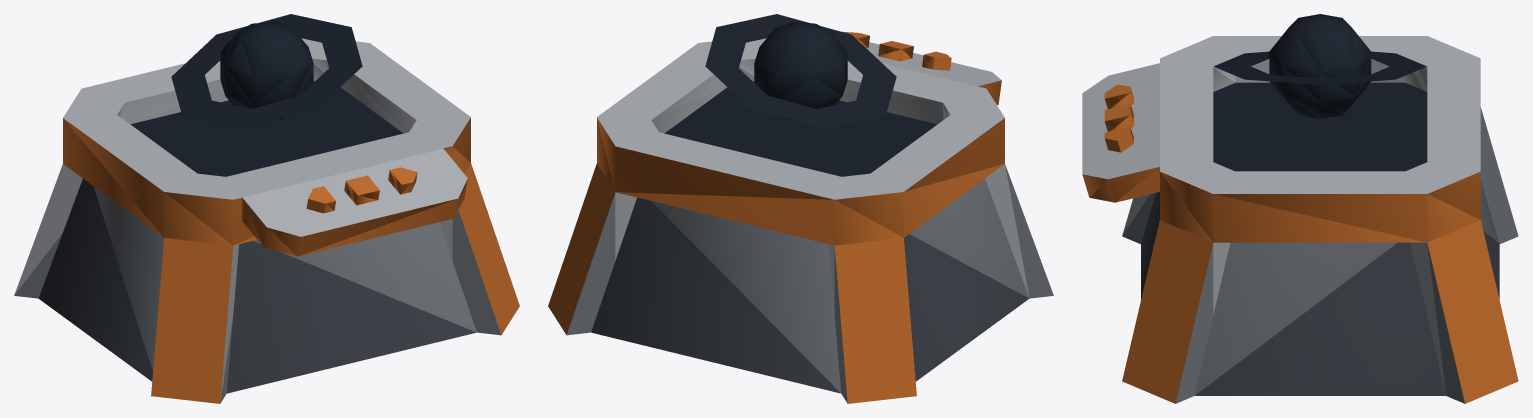
File: Kit_table-display-small.fbx
3 renders of one model, left to right at view 1: azimuth 30°, elevation 25°; view 2: azimuth 150°, elevation 25°; view 3: azimuth 270°, elevation 25°, orthographic. The views are drawn at different scales.
Parts seen in each view (by area): view 1: Kit_table-display-small; view 2: Kit_table-display-small; view 3: Kit_table-display-small.
Part boxes in pixels (box(x1,y1,x2,y2)): Kit_table-display-small: box(14, 14, 519, 403); Kit_table-display-small: box(548, 14, 1053, 403); Kit_table-display-small: box(1082, 14, 1518, 403).
Size of the model in its own units: 0.8414 by 0.6 by 0.8156.
